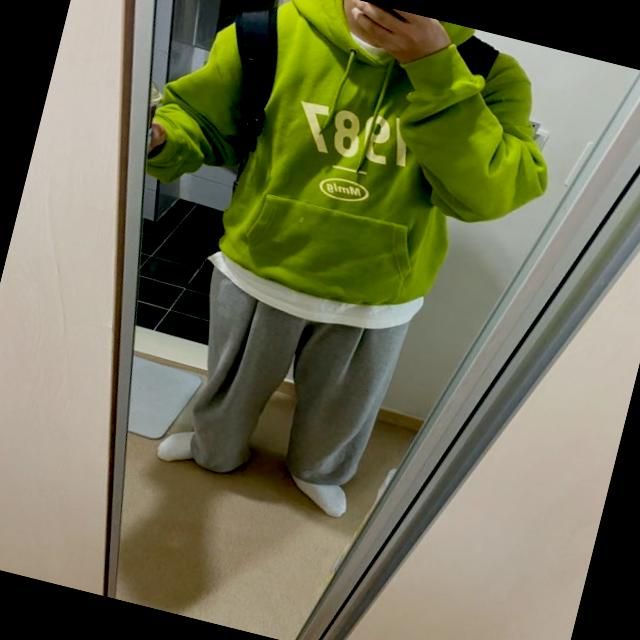hoodies: (114, 0, 578, 346)
trainingpants: (160, 242, 420, 508)
